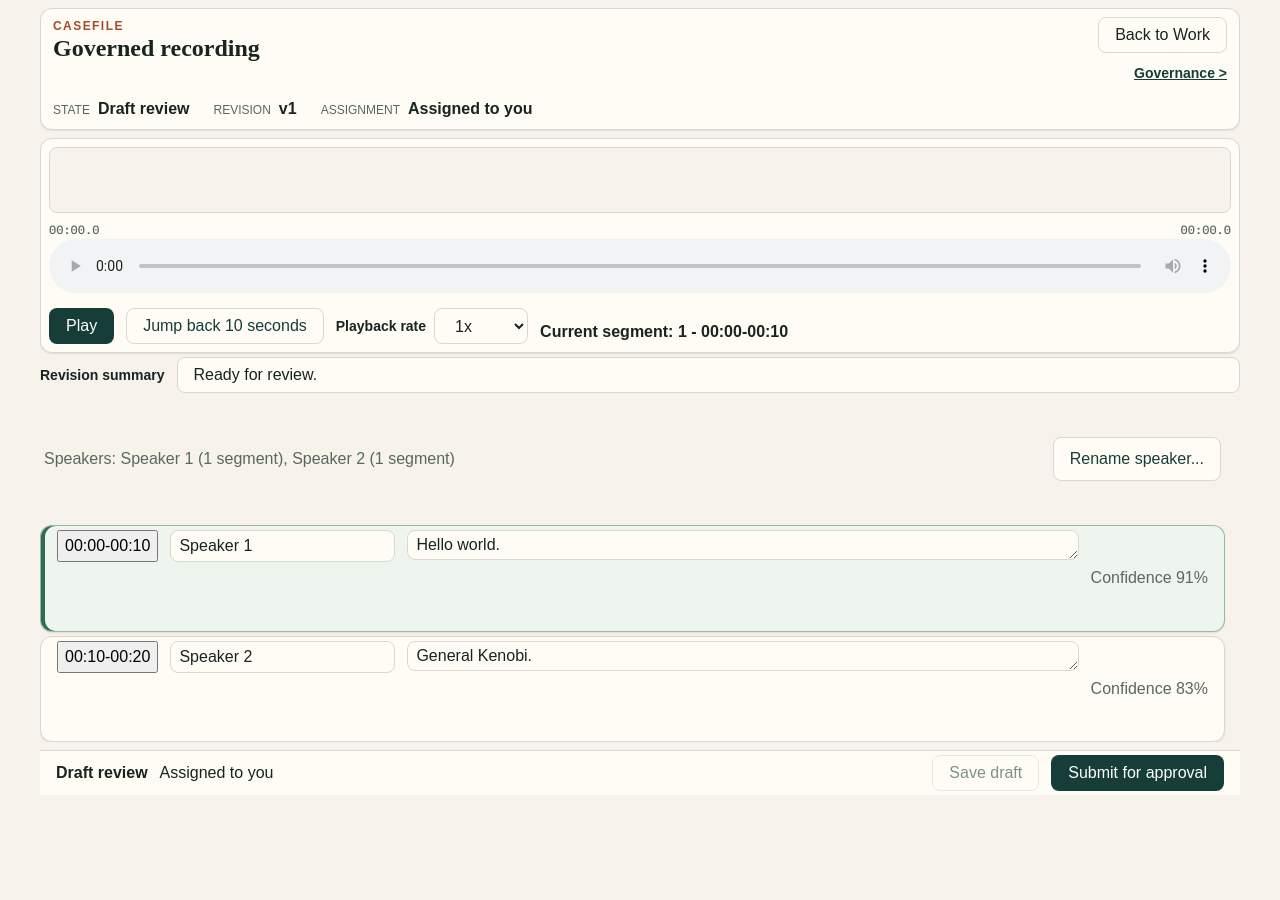
Scenario: CasefileWorkspace › withholds the bulk rename entry point while unsaved edits are pending
Type " Updated" into the text box named "Transcript for segment 1, 00:00-00:10". click: point(743, 545)
box: [407, 530, 1079, 560]
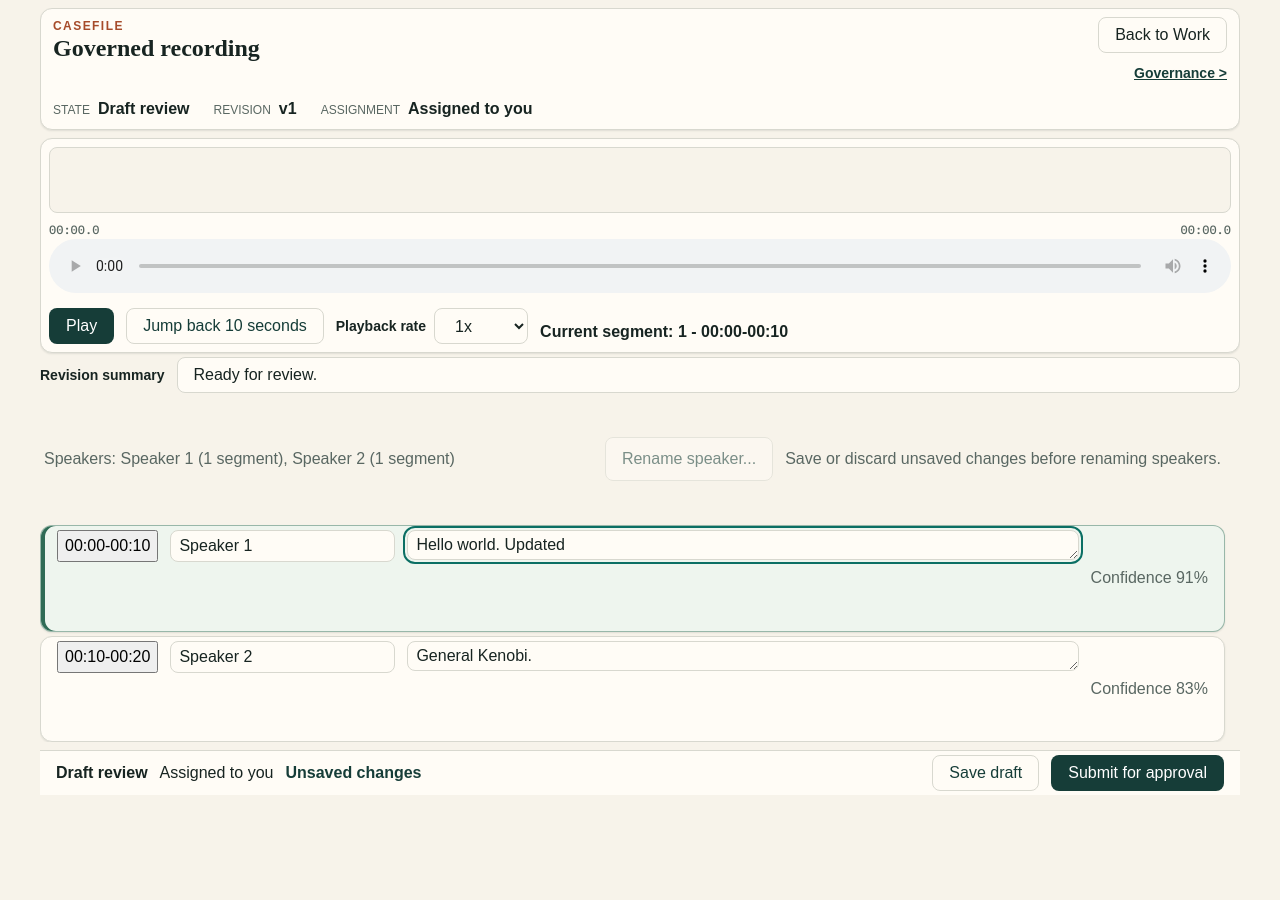
Expected: the button "Rename speaker..." is disabled, [605, 437, 773, 481]
Expected: the text "Save or discard unsaved changes before renaming speakers." is shown, [785, 447, 1221, 471]
